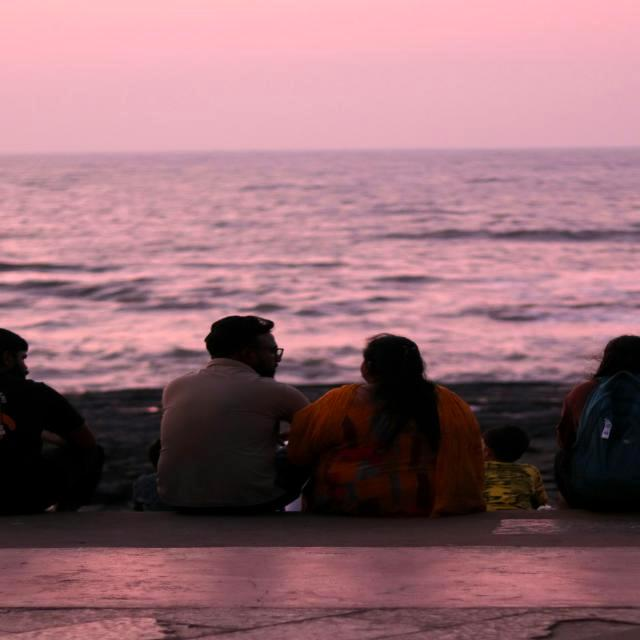no_head_wear: (358, 335, 444, 456), (205, 316, 274, 357), (594, 335, 640, 377), (484, 424, 530, 462), (0, 328, 28, 356)
person: (285, 334, 497, 519), (156, 314, 309, 518), (0, 325, 106, 518), (555, 334, 640, 518), (484, 432, 555, 516)
